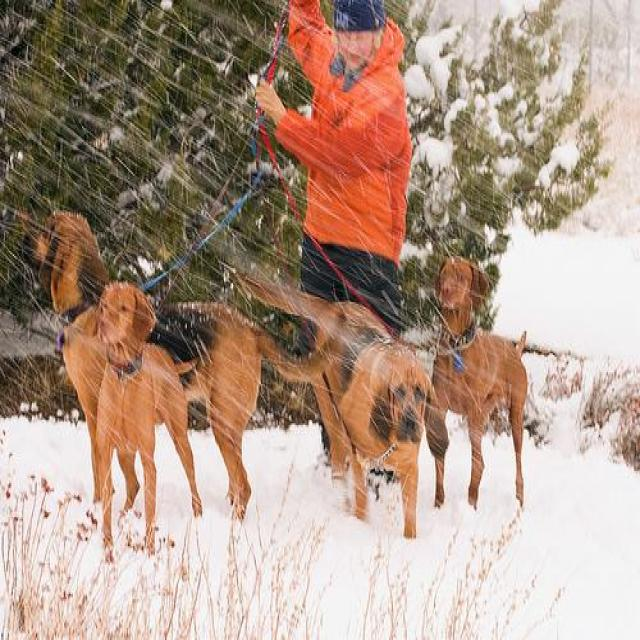bloodhound: (18, 203, 347, 526), (238, 266, 451, 538), (87, 278, 201, 568), (431, 258, 529, 512)
